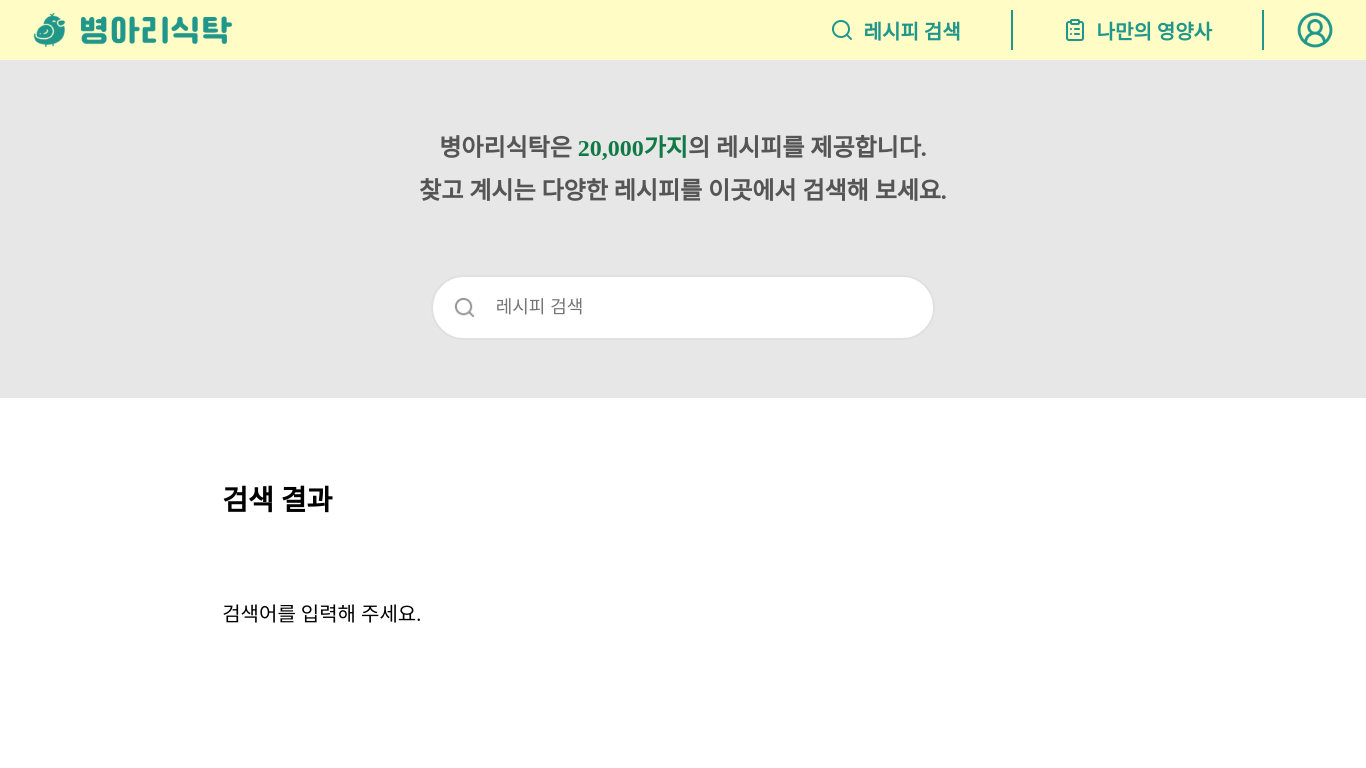
Test case: 레시피 검색 › 검색어를 입력하고 Enter를 누르면 레시피 카드가 보인다
This screenshot has width=1366, height=768.
In the field with placeholder "레시피 검색": {"x": 694, "y": 307} left=476, top=277, right=913, bottom=338, type "두부"
Then press Enter
(page scrolled)
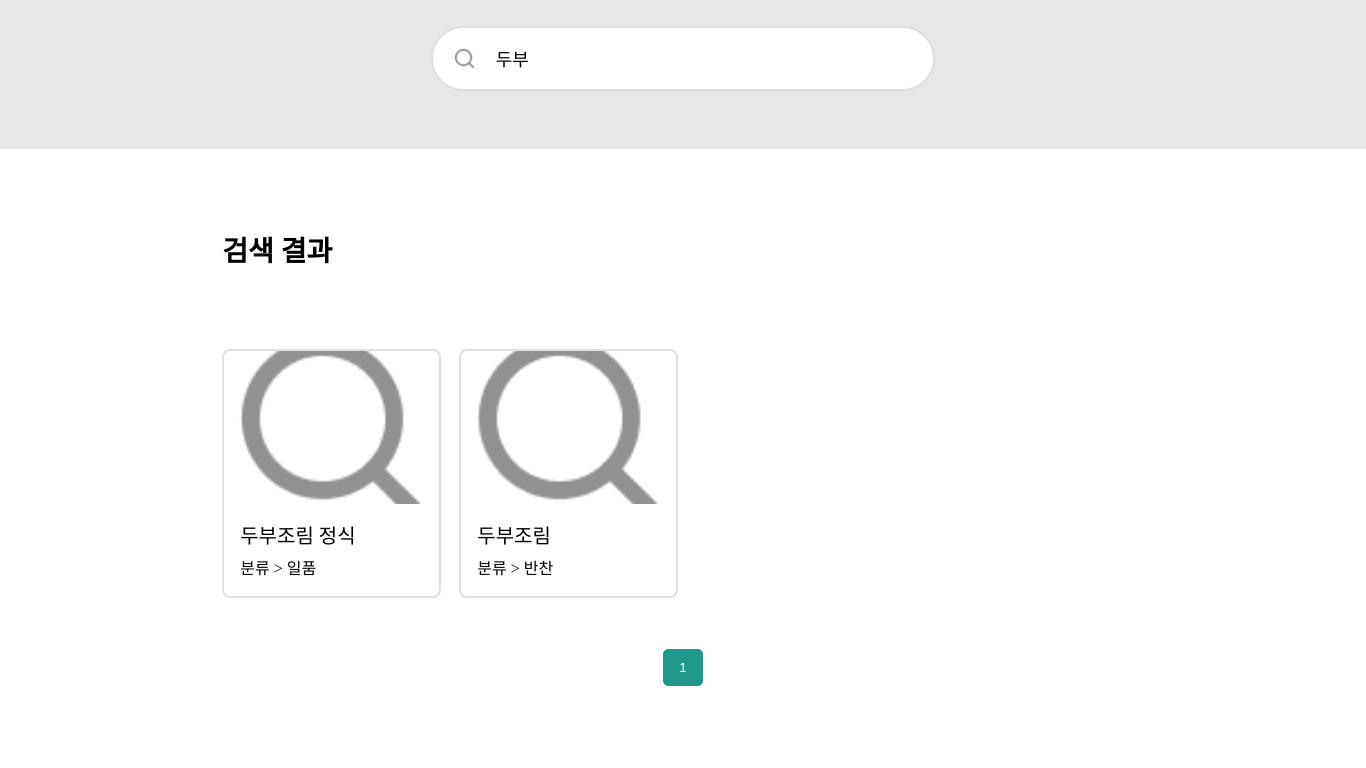
Result: the text "두부조림" is shown at left=477, top=525, right=551, bottom=547
Result: the text "두부조림 정식" is shown at left=240, top=525, right=356, bottom=547
